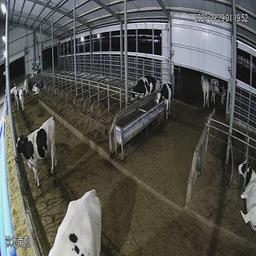cow: (9, 114, 63, 188), (53, 178, 103, 255), (235, 147, 255, 240), (155, 78, 176, 122), (127, 70, 155, 100), (196, 71, 210, 110), (4, 88, 19, 110), (31, 79, 49, 96)
